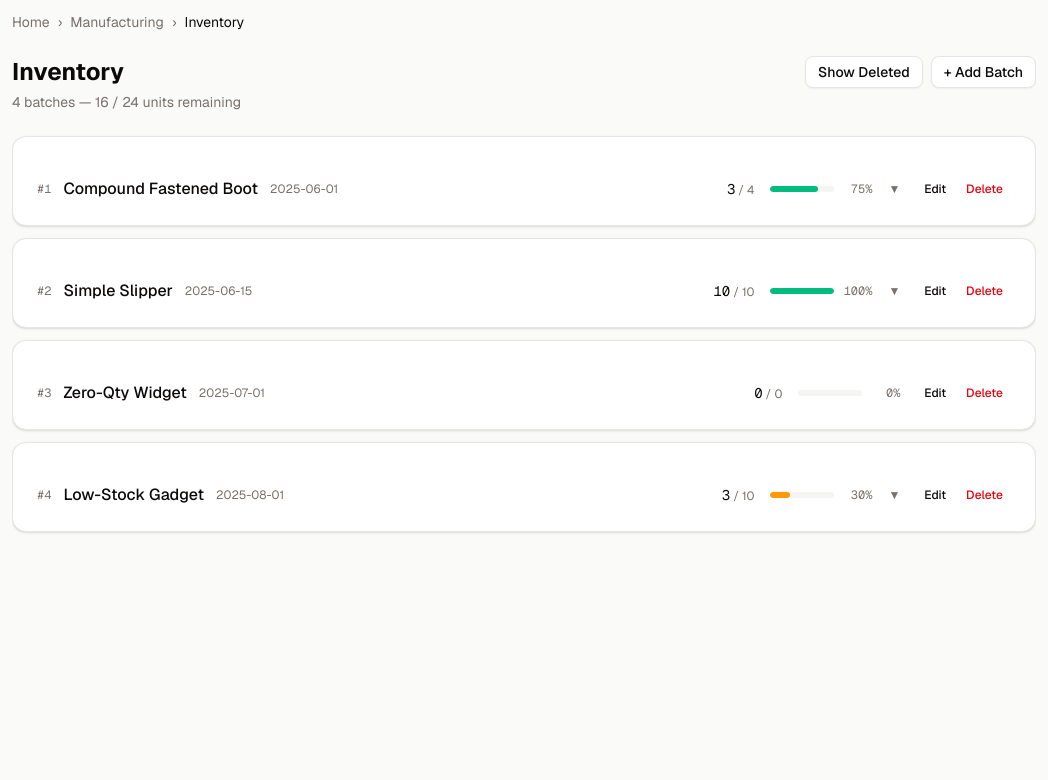
Test: InventoryPage › can also expand by clicking the product name area
The width and height of the screenshot is (1048, 780).
Step 1. Click the button "#1 Compound Fastened Boot 2025-06-01" → (161, 188), box [37, 177, 711, 201]
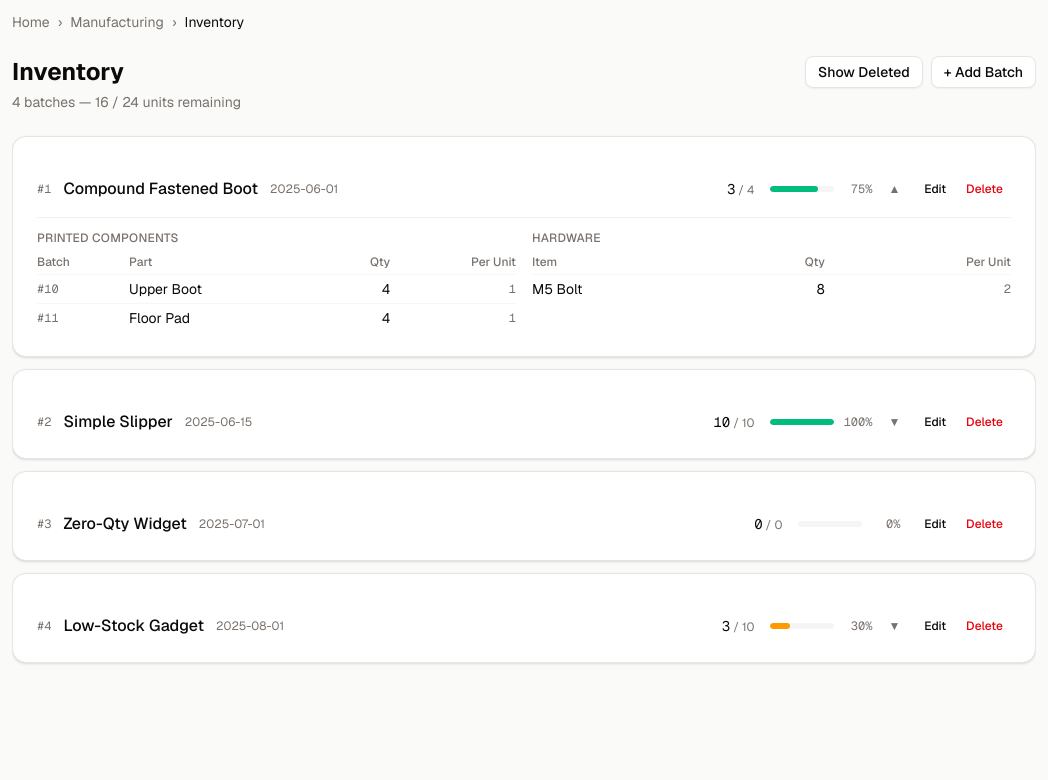
Now the text "Printed Components" is shown, box [37, 230, 179, 246]
